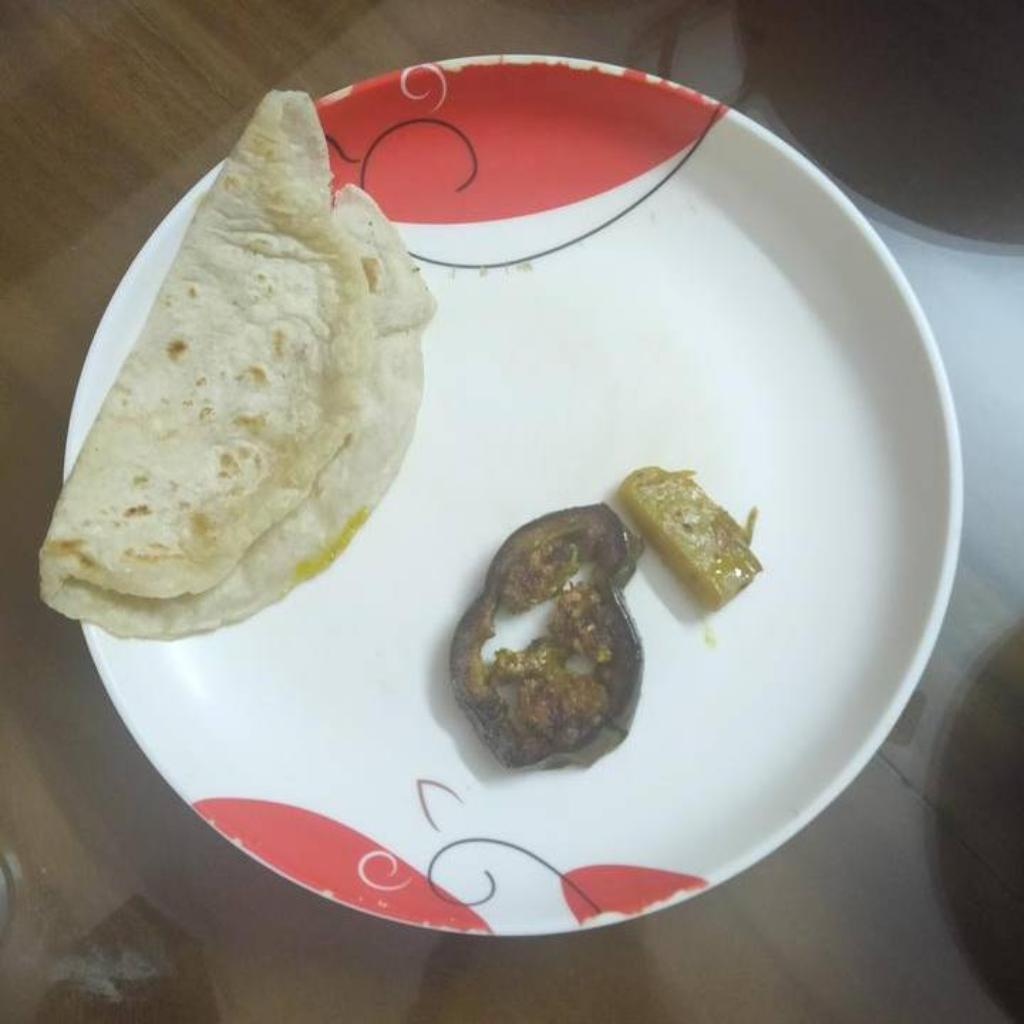begun-vaji: (451, 506, 644, 775)
potato: (617, 464, 766, 613)
ruti: (34, 91, 435, 646)
